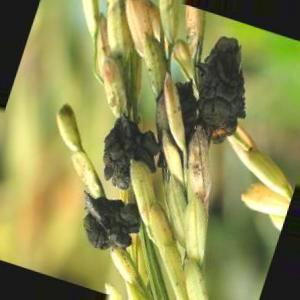Leaf_Scald: (199, 35, 254, 134), (106, 125, 154, 188), (82, 195, 132, 253)
